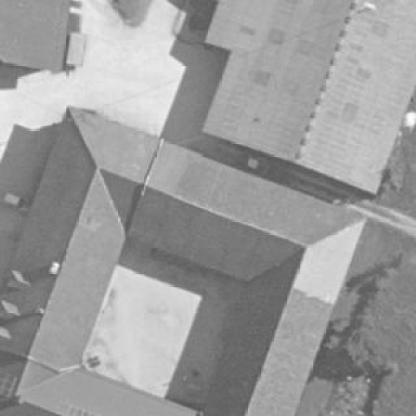solar-pv-panel: (61, 402, 97, 416), (0, 372, 15, 397)
